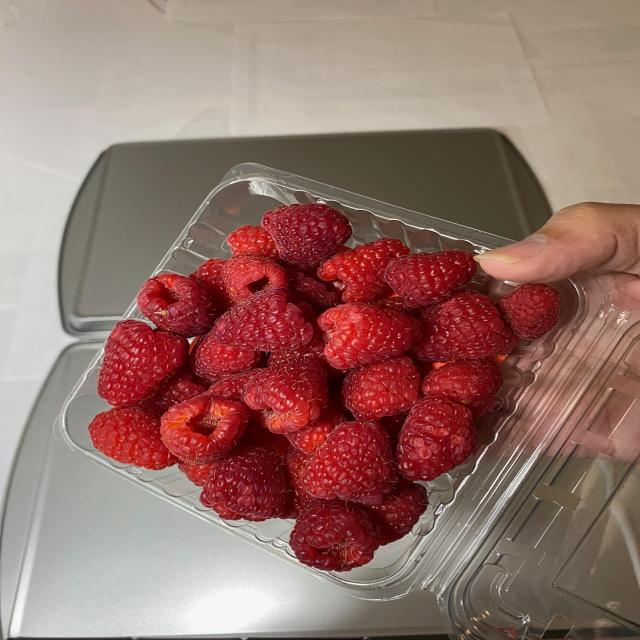raspberries: (106, 221, 546, 498)
